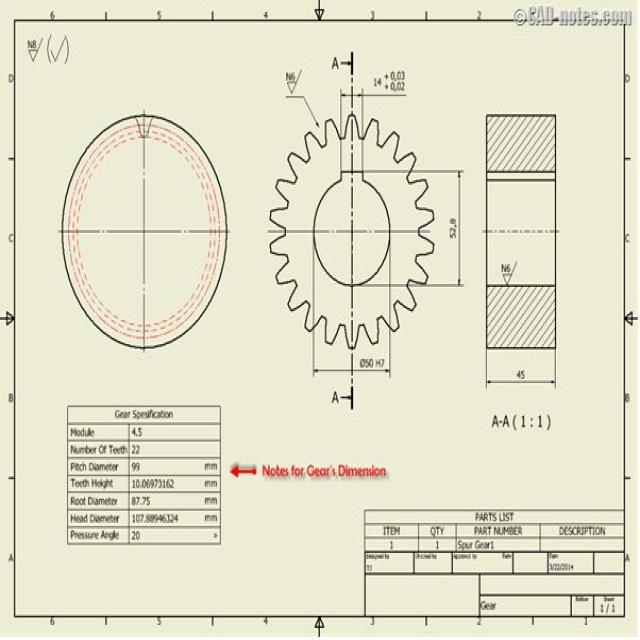Sectional view: (483, 94, 565, 440)
Table 1: (64, 400, 222, 548)
Table 2: (357, 501, 626, 628)
Top view: (256, 48, 472, 410), (49, 79, 232, 353)
text1: (234, 458, 394, 487)
